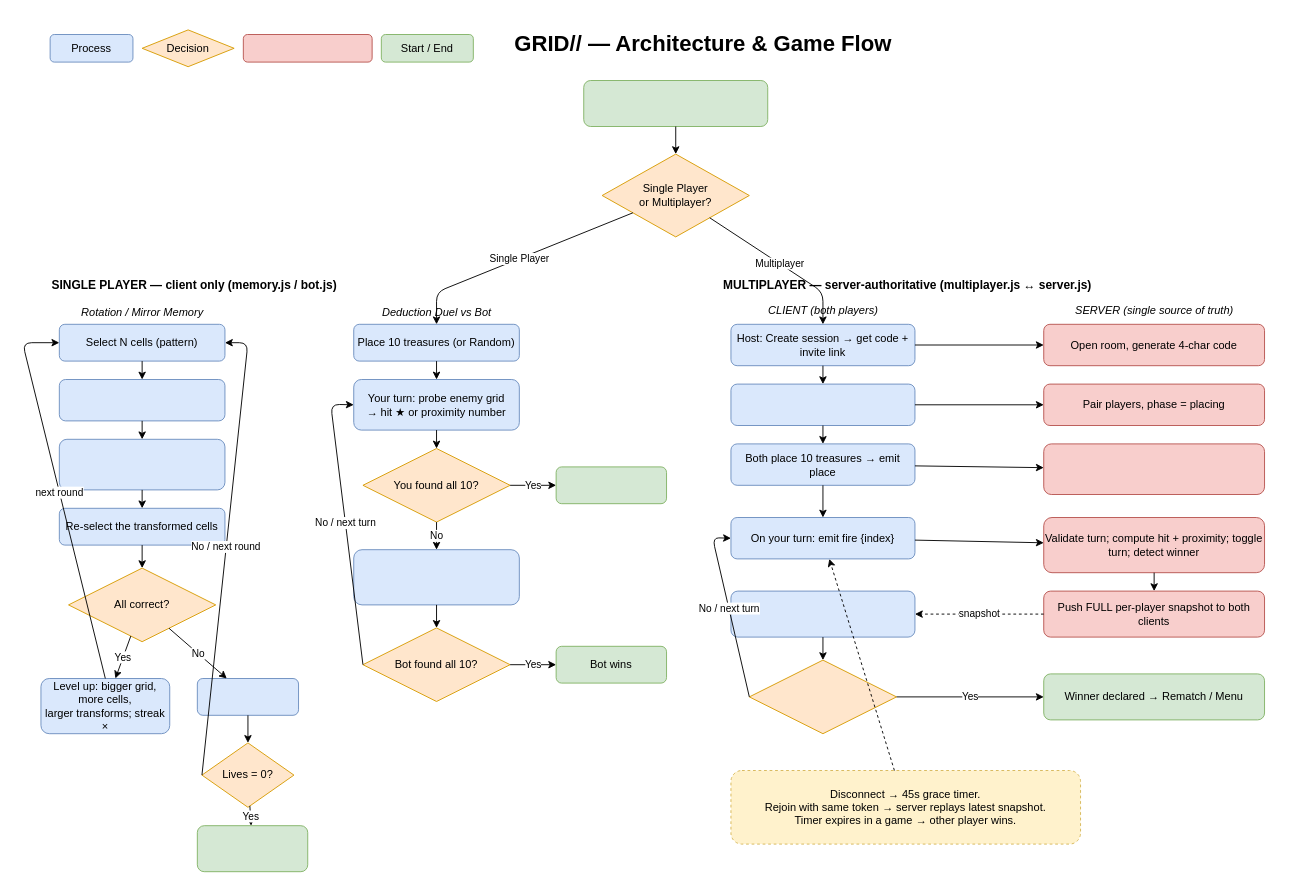
Image size: 1308x888. Some labels were removed from this diagram. The shapes that lost their labels are listed below. From the top down, each one's box as (x1, y1, x2, y2) in pixels, then its label:
(242, 34, 372, 62): Server (authoritative)
(583, 80, 768, 126): Boot / Menu (index.html) press ENTER
(58, 379, 225, 421): Press Ready → memorise (countdown)
(730, 383, 915, 426): Friend joins via link / code (token identity)
(58, 438, 225, 490): Hide pattern → animate rotate/mirror; target = Transform(pattern)
(1043, 443, 1265, 494): Validate placement; when both ready → phase = playing, pick turn
(555, 466, 667, 504): You win
(353, 549, 519, 605): Bot solver: certain deductions from clues, else probability heatmap → probe
(730, 590, 915, 637): Render snapshot (clients compute NOTHING)
(196, 678, 299, 715): Lose a life
(748, 659, 897, 734): Someone found all 10?
(196, 825, 308, 872): Game Over (save best score)
